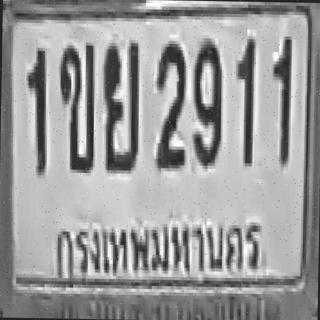A02: (57, 39, 95, 170)
A34: (100, 36, 138, 170)
N01: (24, 43, 46, 174), (270, 34, 290, 162), (234, 35, 254, 163)
N02: (155, 39, 185, 167)
N09: (191, 38, 222, 166)
P04: (46, 211, 281, 290)
